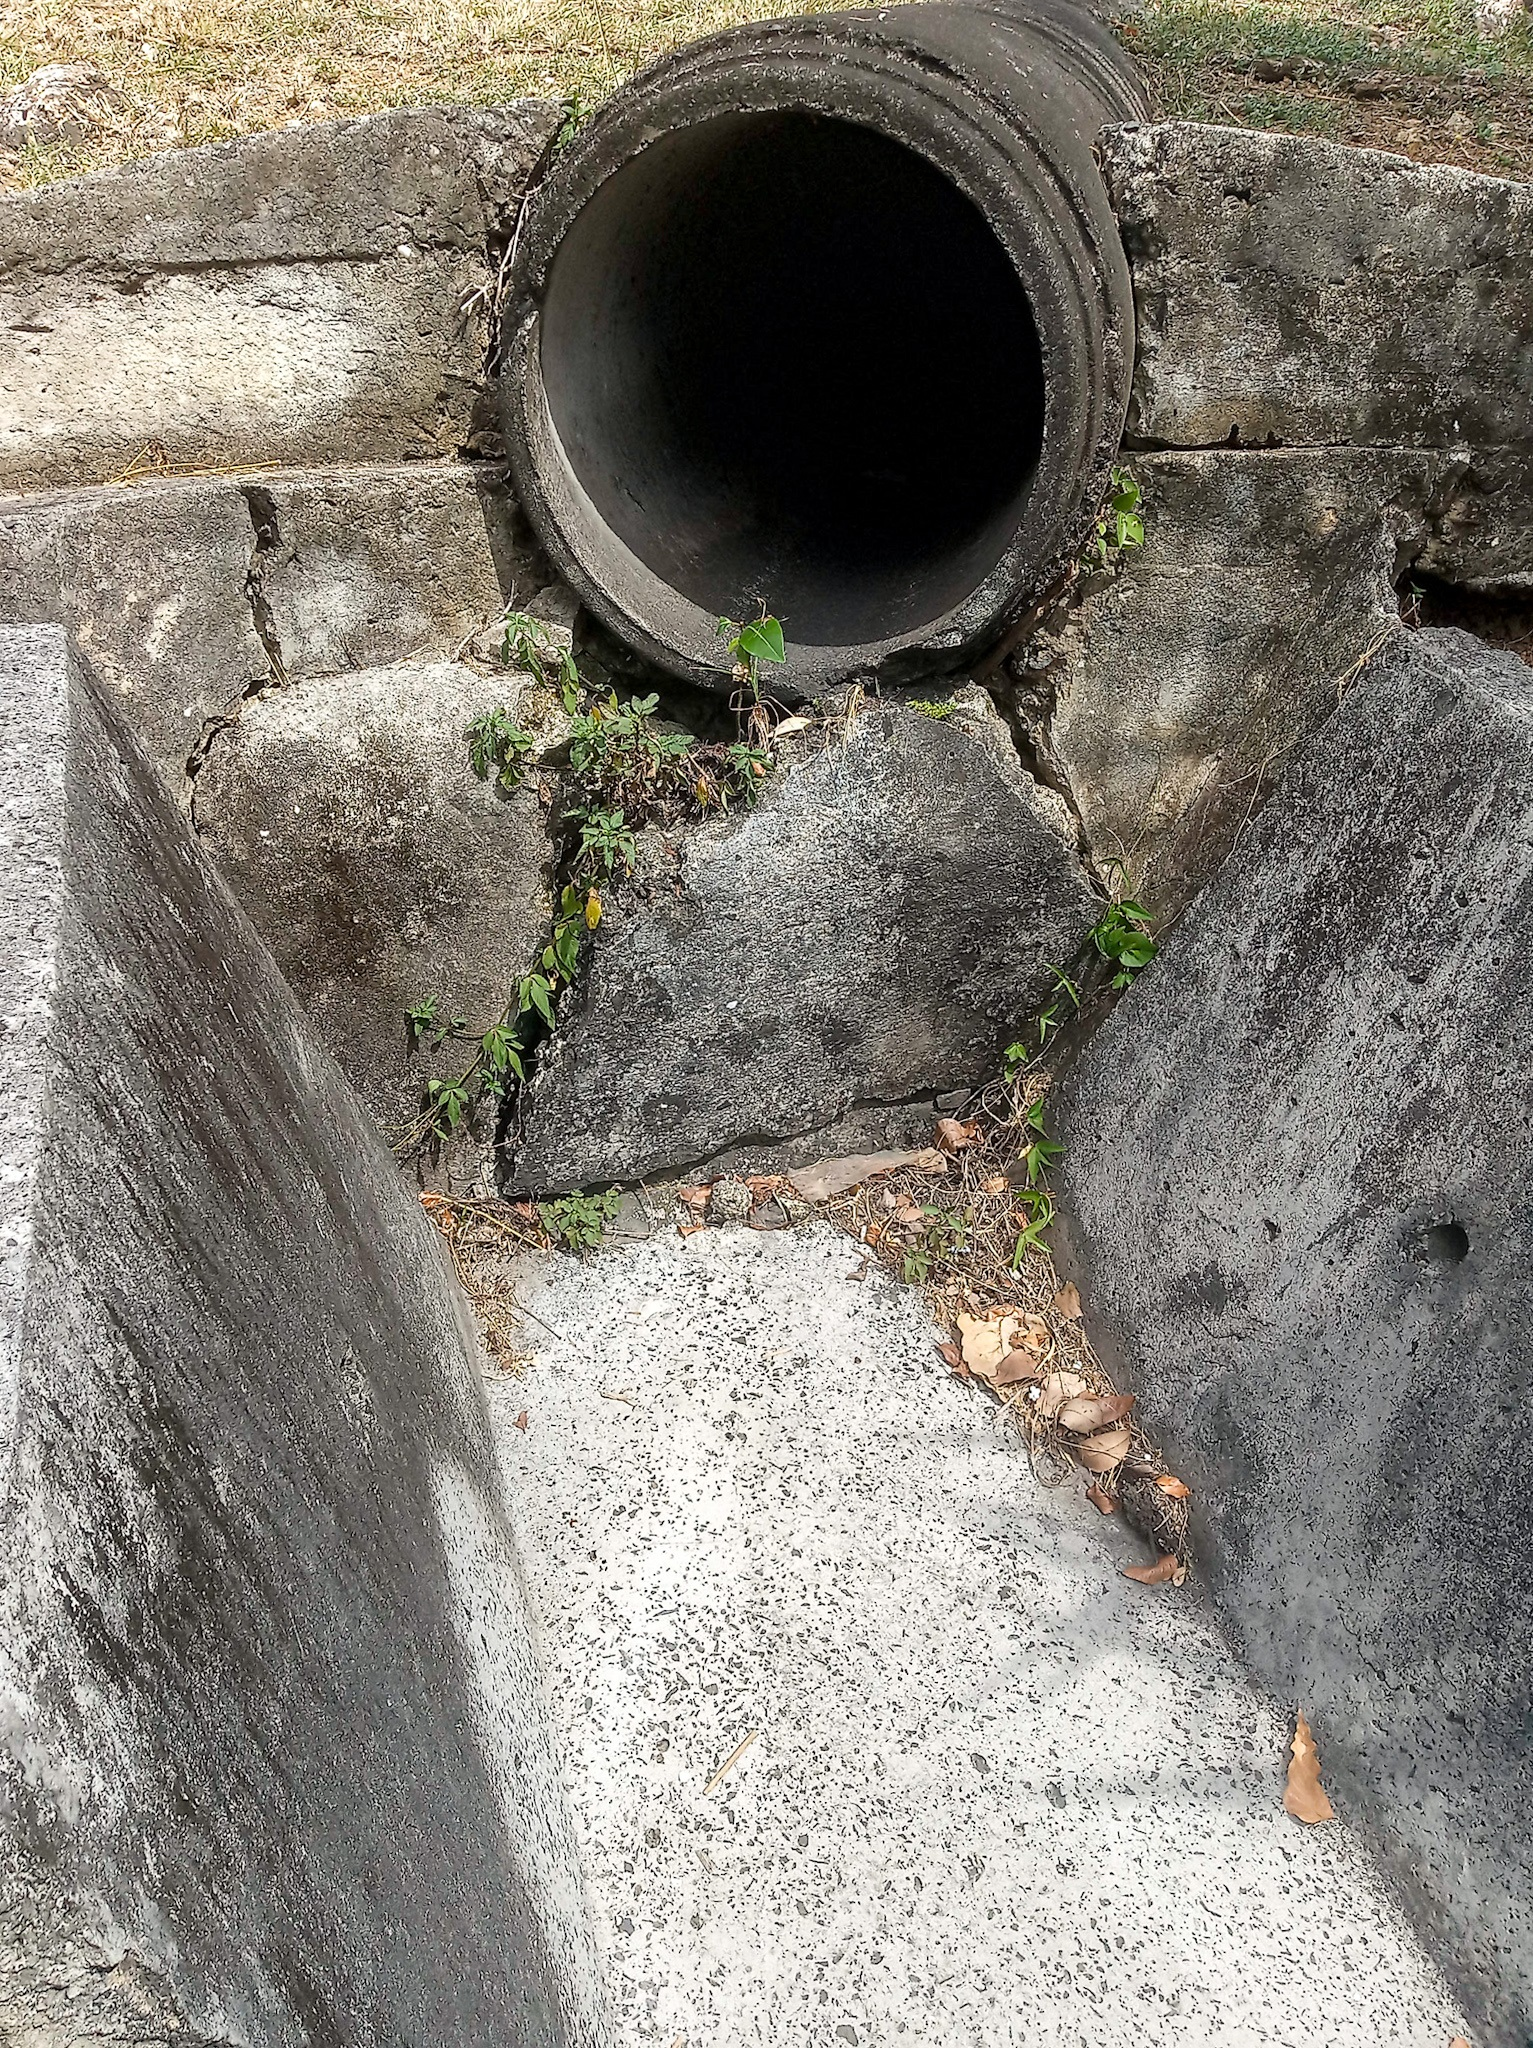Culvert: (527, 114, 1043, 673)
Empty Outlet: (527, 114, 1043, 673)
